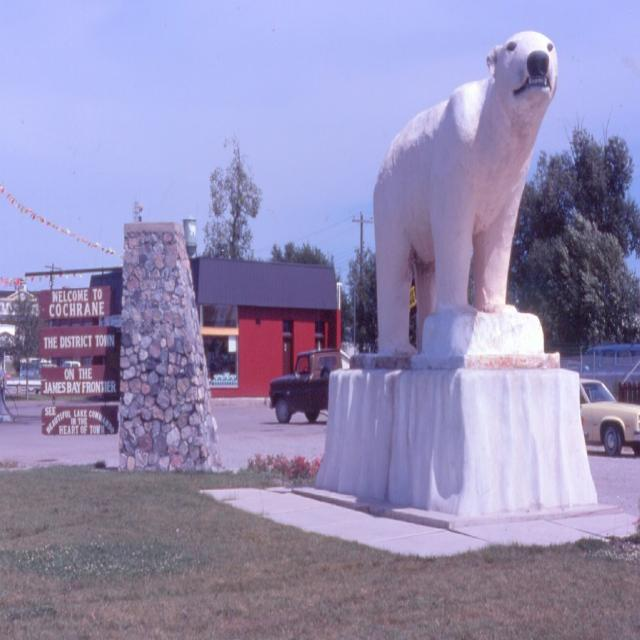car: (570, 375, 639, 468)
